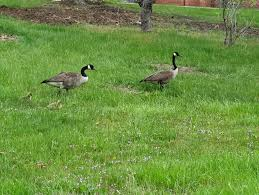goose: (140, 50, 182, 92), (40, 64, 96, 94)
